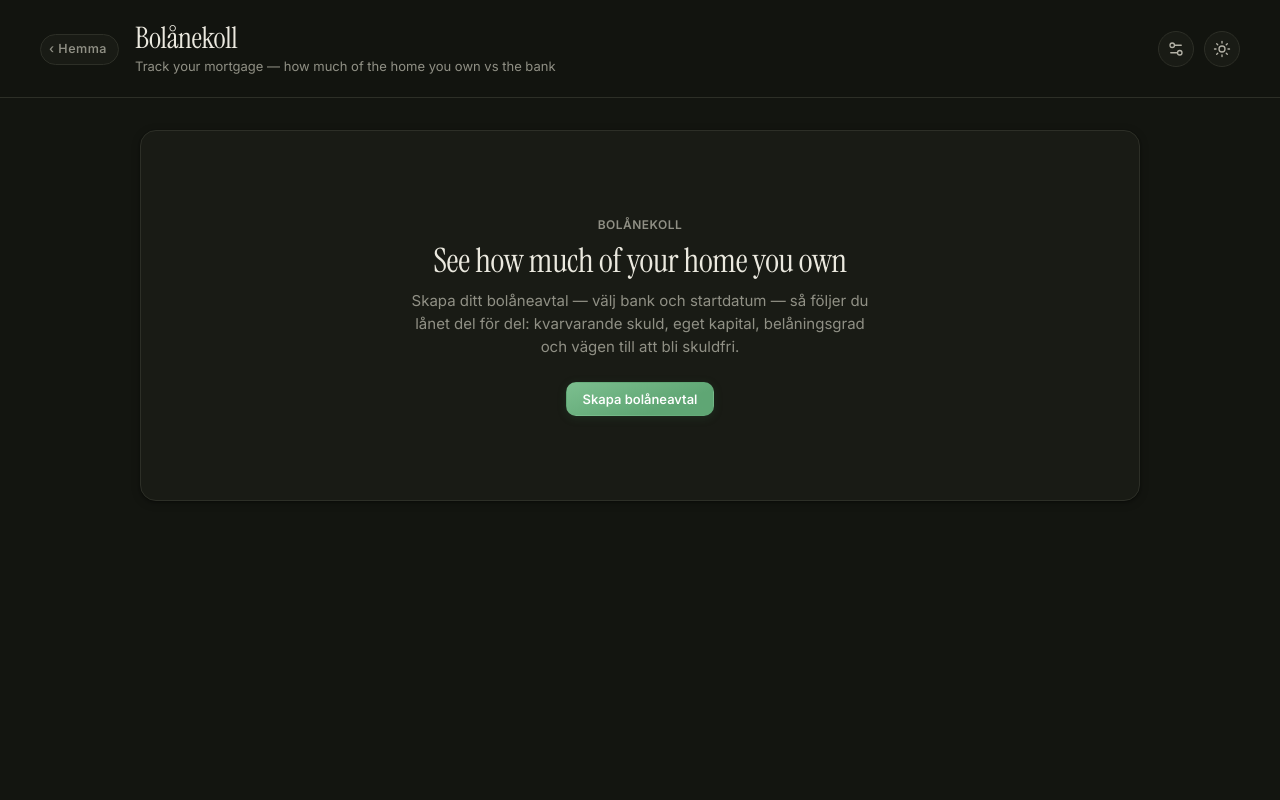
Bolanekoll — create-agreement bank picker placeholder (plan 109c bug fix) › shows a disabled placeholder and keeps Skapa disabled until a bank is actively chosen when only catalogue banks exist
Click the button "Skapa bolåneavtal" at (640, 398), box [566,382,714,416]
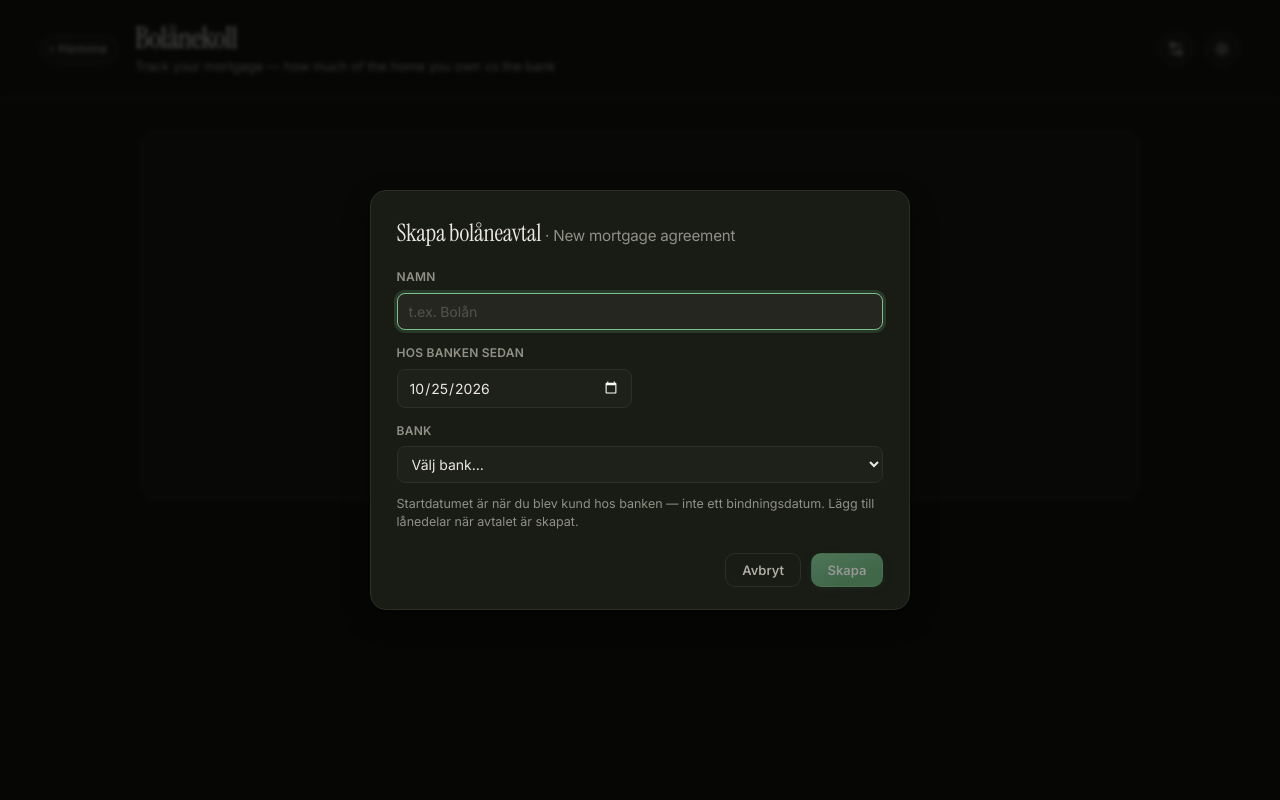
Result: the dropdown shows "Välj bank…"
Result: the button "Skapa" is disabled at [811,553,883,587]
// Actively picking the catalogue bank commits it to state and enables Skapa.
Select "Danske" in the dropdown at (640, 465), box [397,446,883,483]
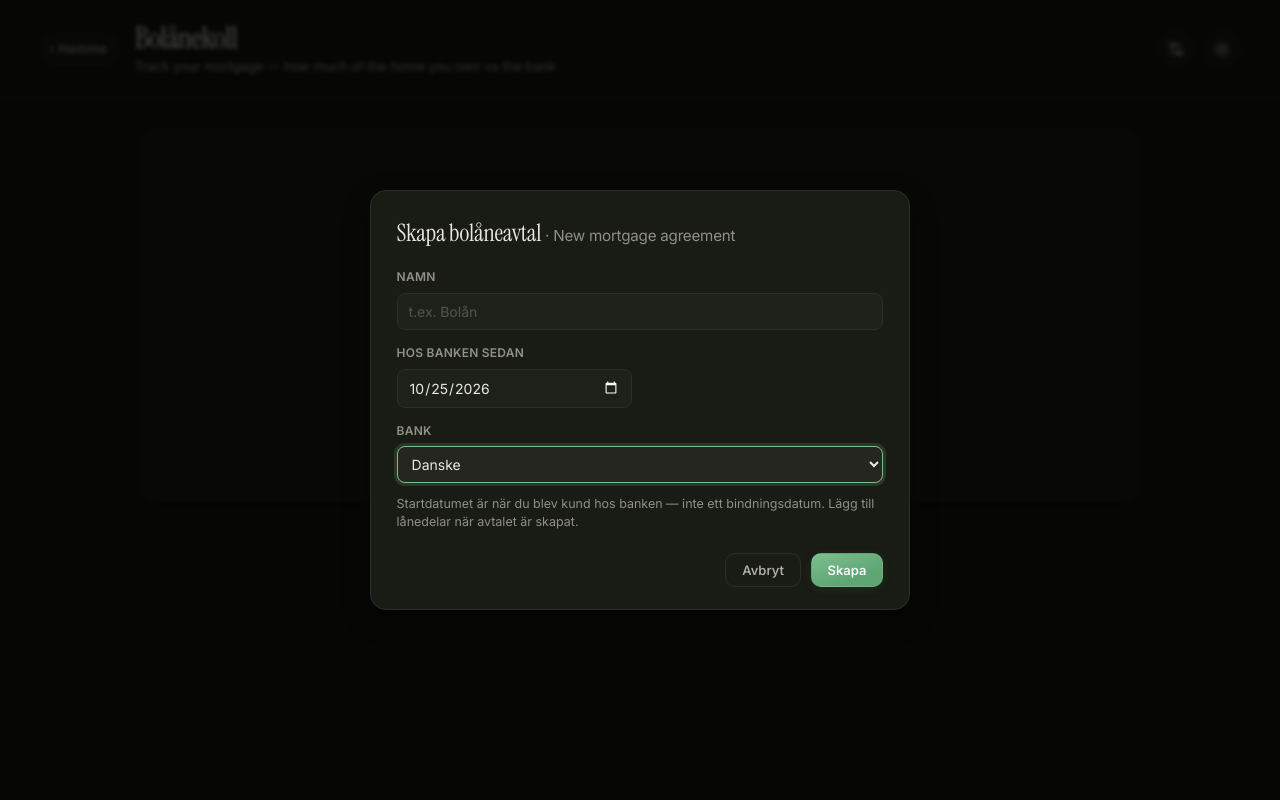
Result: the button "Skapa" is enabled at [811,553,883,587]
